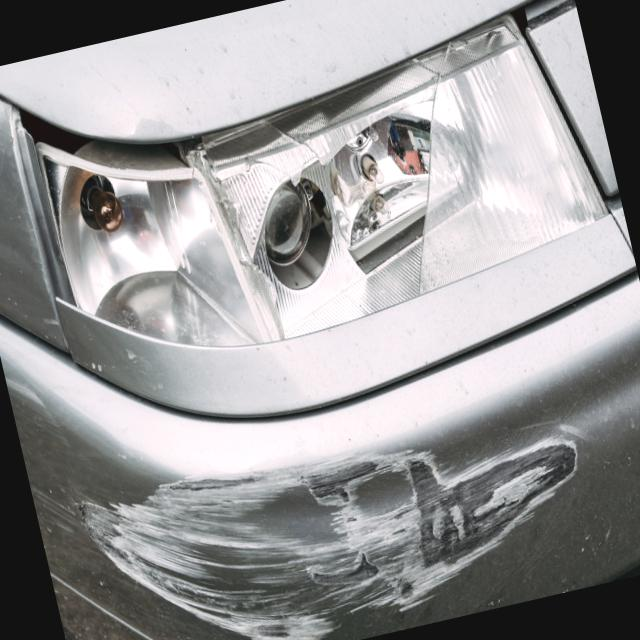Phare abime: (24, 32, 509, 395)
Rayure: (61, 344, 623, 640)
